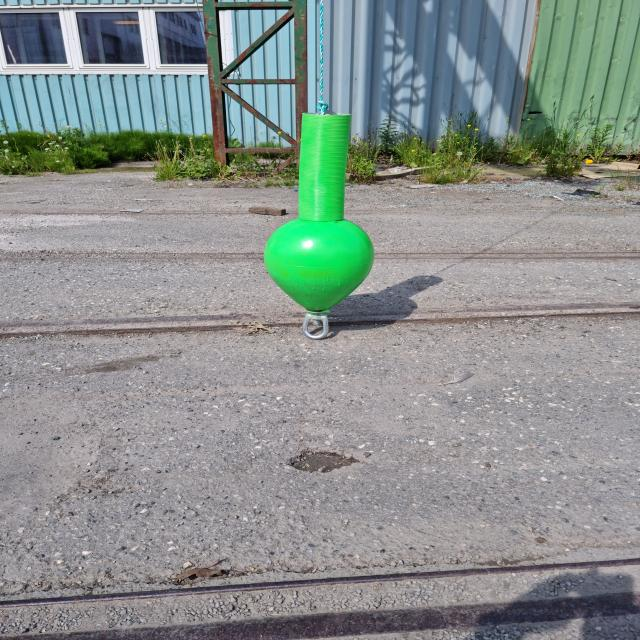green: (263, 112, 376, 313)
